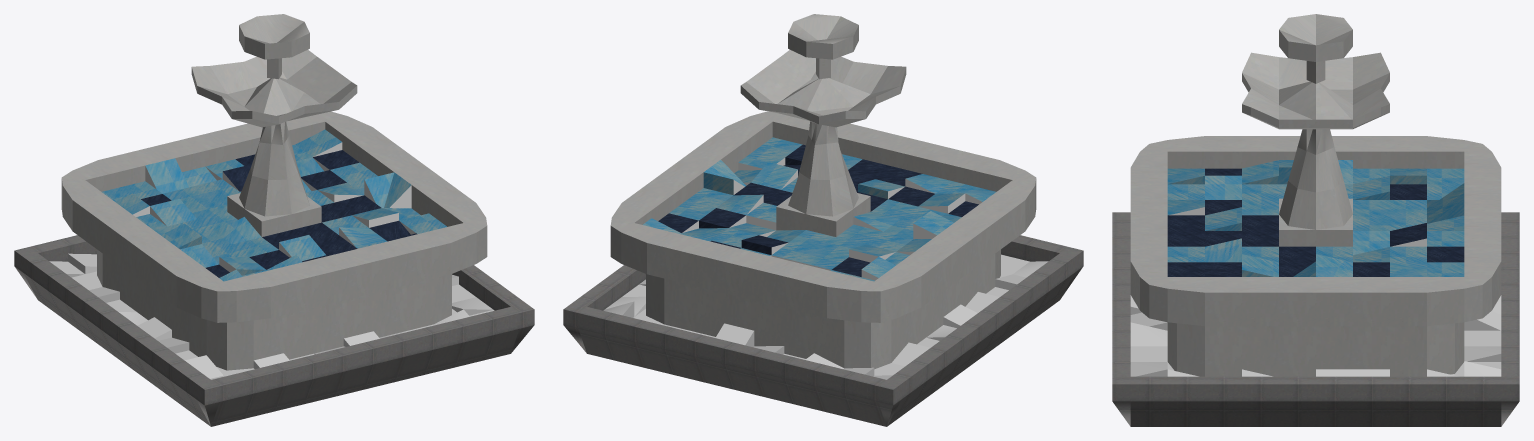
Rendered from fontat.fbx.
The picture shows the model from 3 angles, left to right: view 1: azimuth 30°, elevation 25°; view 2: azimuth 150°, elevation 25°; view 3: azimuth 270°, elevation 25°; orthographic projection. The views are drawn at different scales.
Visible parts, largest first — view 1: фонтан; view 2: фонтан; view 3: фонтан.
Part boxes in pixels (x1,y1,x2,y2): фонтан: [14, 14, 534, 426]; фонтан: [563, 14, 1083, 426]; фонтан: [1112, 14, 1519, 426].
Bounding box in the file's own units: 1100 × 950 × 1100.
